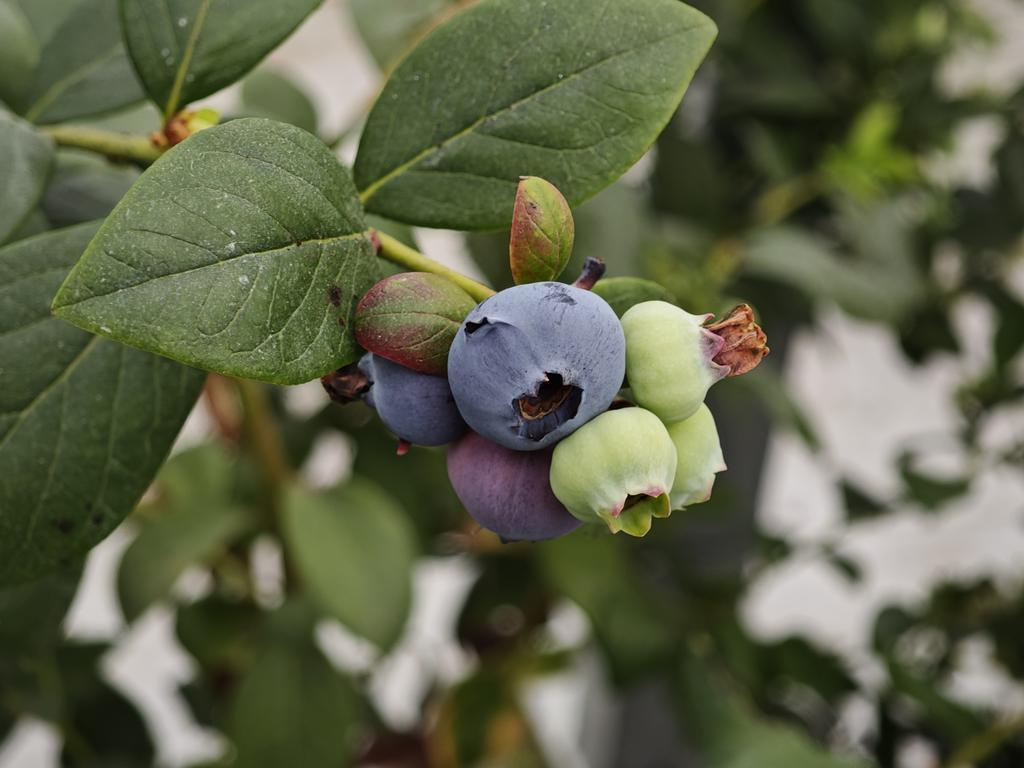RipeBlueBerry: (442, 278, 632, 455)
Semi-RipeBlueBerry: (447, 432, 593, 547)
UnripeBlueBerry: (548, 409, 682, 535), (621, 300, 749, 422)
